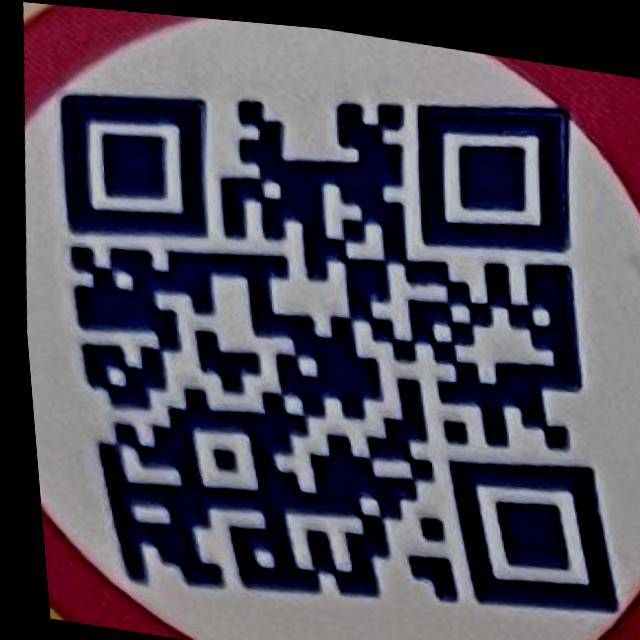QR_CODE: (18, 23, 640, 640)
